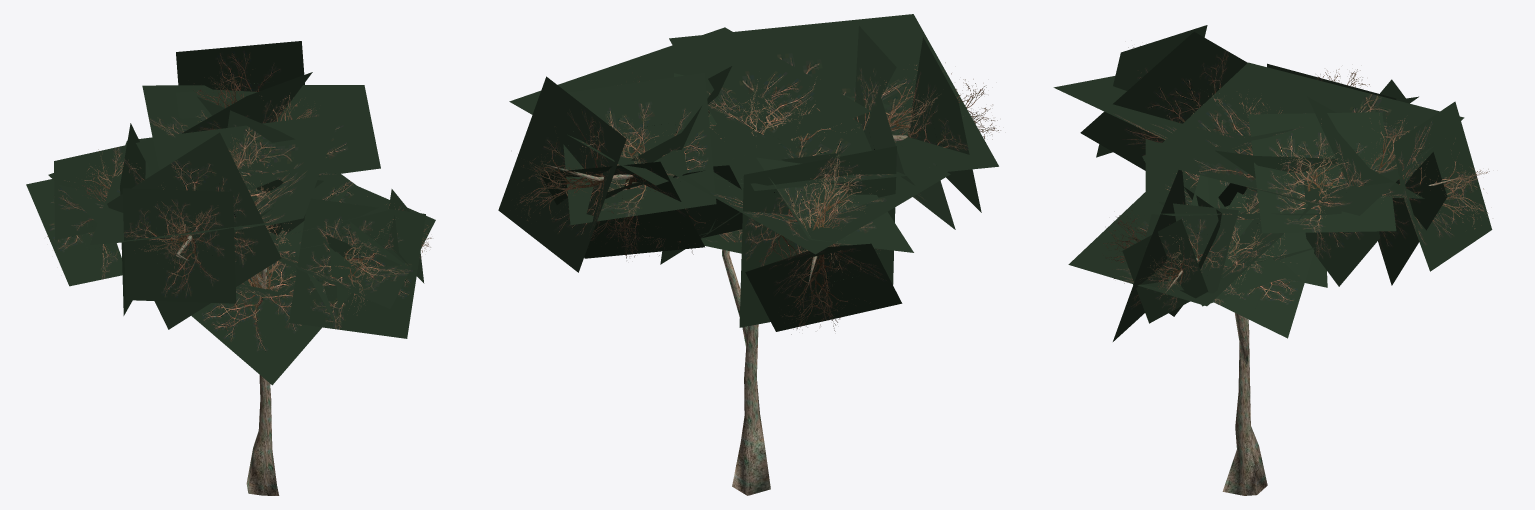
File: decd_dogwoodtreebranches_a2_l0.fbx
The picture shows the model from 3 angles, left to right: view 1: azimuth 30°, elevation 25°; view 2: azimuth 150°, elevation 25°; view 3: azimuth 270°, elevation 25°; orthographic projection. The views are drawn at different scales.
Visible parts, largest first — view 1: mesh_node; view 2: mesh_node; view 3: mesh_node.
Part boxes in pixels (box(x1,y1,x2,y2)): mesh_node: box(26, 41, 435, 495); mesh_node: box(498, 14, 1000, 495); mesh_node: box(1053, 25, 1492, 495).
Size of the model in its own units: 17.2 by 18.6 by 18.59.
